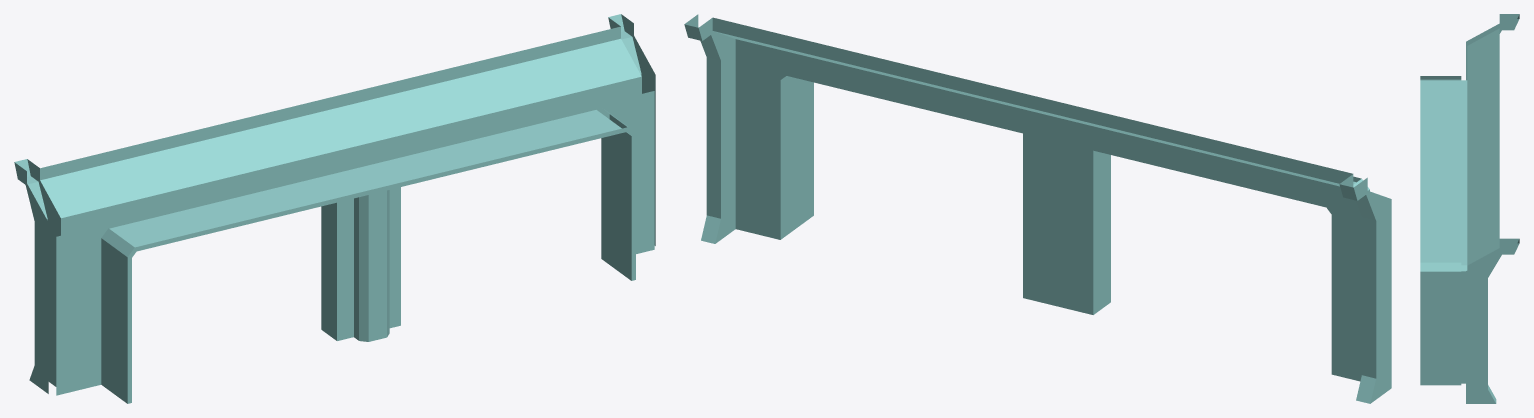
The model's file is TS2_Collider_Csd_DaMen.FBX.
3 renders of one model, left to right at view 1: azimuth 30°, elevation 25°; view 2: azimuth 150°, elevation 25°; view 3: azimuth 270°, elevation 25°, orthographic. The views are drawn at different scales.
Visible parts, largest first — view 1: TS2_Collider_Csd_DaMen; view 2: TS2_Collider_Csd_DaMen; view 3: TS2_Collider_Csd_DaMen.
Boxes of the visible parts, x1,y1,x2,y2 form: TS2_Collider_Csd_DaMen: (14, 14, 655, 403); TS2_Collider_Csd_DaMen: (684, 14, 1391, 403); TS2_Collider_Csd_DaMen: (1420, 14, 1519, 403).
Size of the model in its own units: 18.93 by 6.2 by 3.46.
